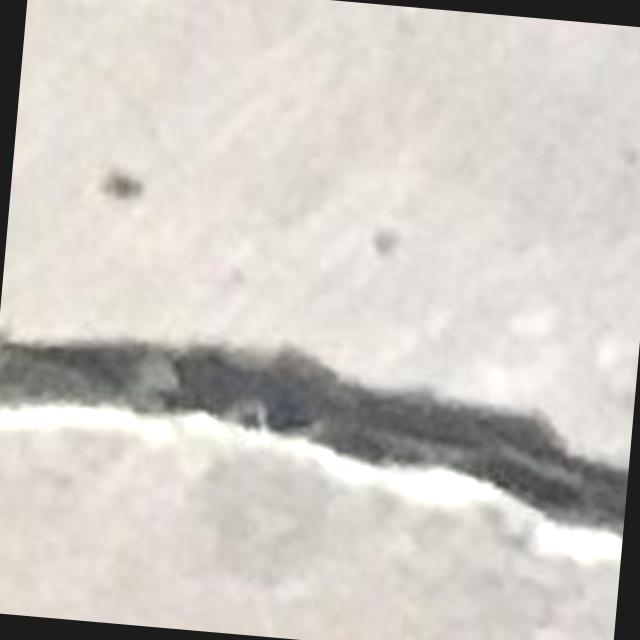crack: (0, 334, 628, 524)
